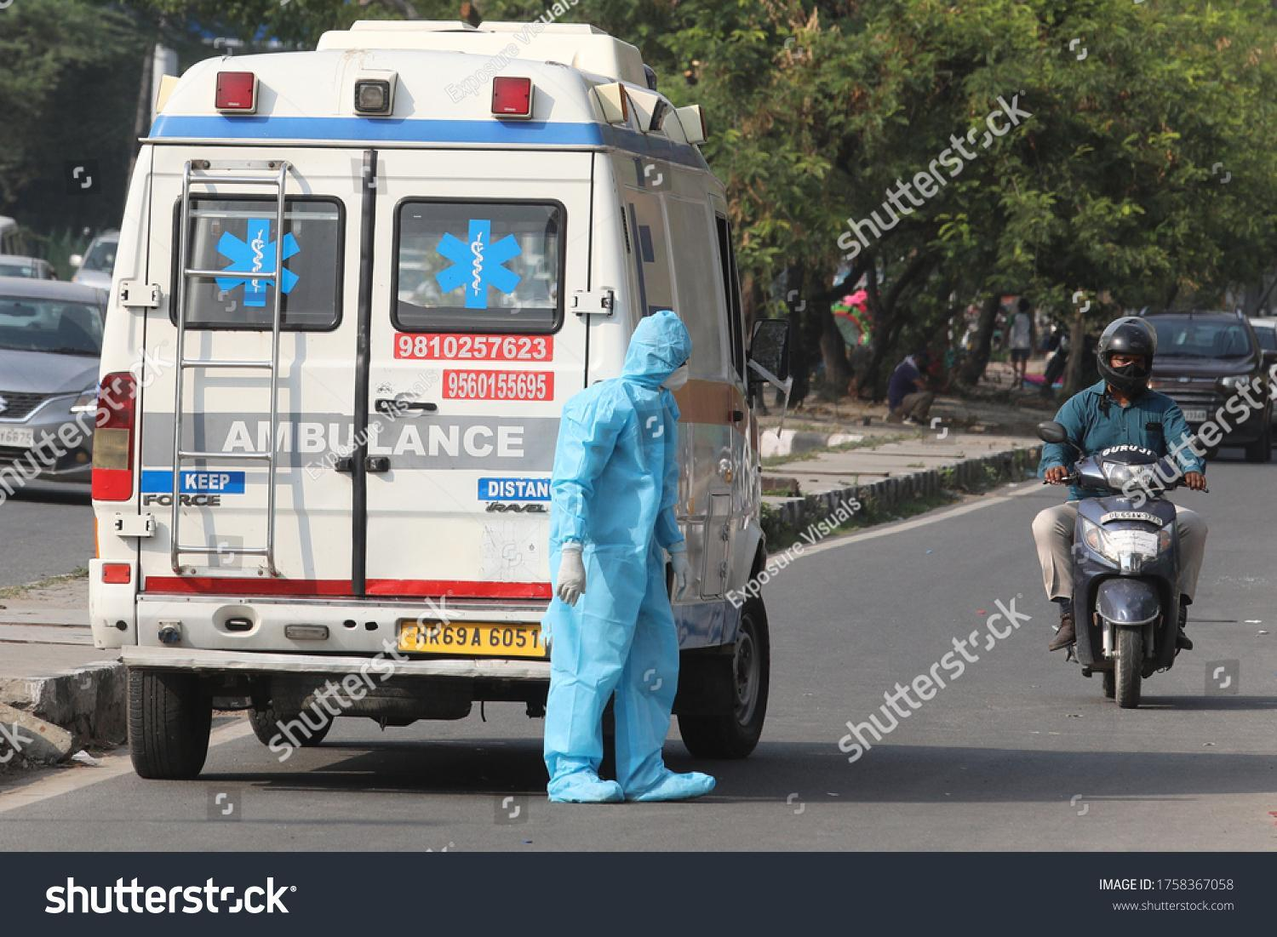Ambulance: (207, 417, 553, 473), (183, 200, 320, 327), (411, 207, 546, 327)
